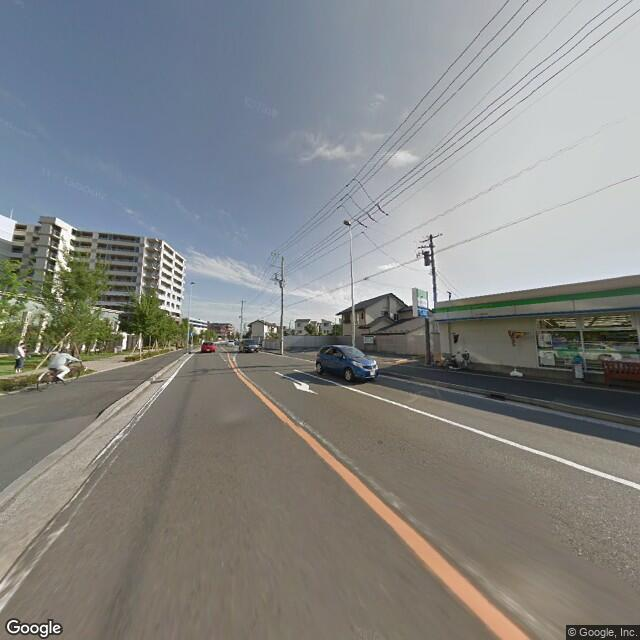family_mart: (435, 279, 639, 324), (412, 286, 429, 312)
